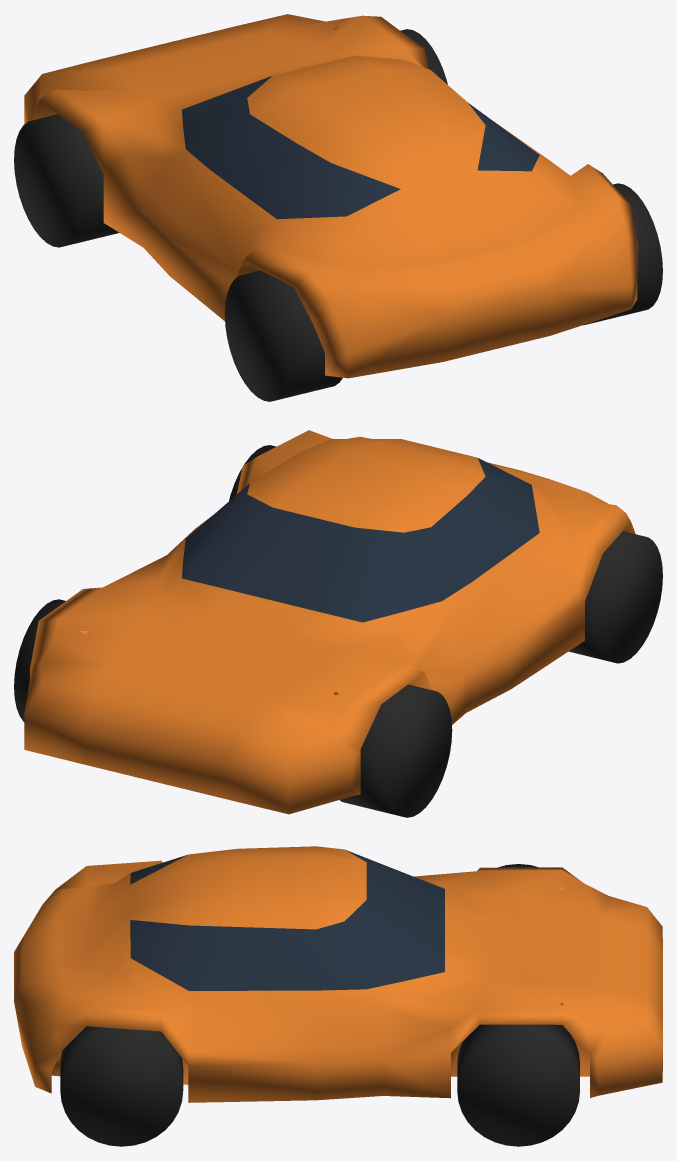
File: Car_1.fbx
The picture shows the model from 3 angles, top to bottom: view 1: azimuth 30°, elevation 25°; view 2: azimuth 150°, elevation 25°; view 3: azimuth 270°, elevation 25°; orthographic projection. The views are drawn at different scales.
Visible parts, largest first — view 1: Car, Wheel_B_L, Wheel_F_L, Wheel_B_R, Wheel_F_R; view 2: Car, Wheel_F_L, Wheel_B_L, Wheel_F_R; view 3: Car, Wheel_F_R, Wheel_B_R.
Part boxes in pixels (x1,y1,x2,y2): Car: (24,14,637,378); Wheel_B_L: (224,270,342,401); Wheel_F_L: (14,114,119,247); Wheel_B_R: (583,183,662,325); Wheel_F_R: (400,29,447,84); Car: (24,430,635,814); Wheel_F_L: (340,684,452,817); Wheel_B_L: (569,531,662,663); Wheel_F_R: (14,599,65,721); Car: (14,846,662,1102); Wheel_F_R: (457,1024,579,1146); Wheel_B_R: (60,1026,183,1146).
Bounding box in the file's own units: 123 × 62.19 × 196.
